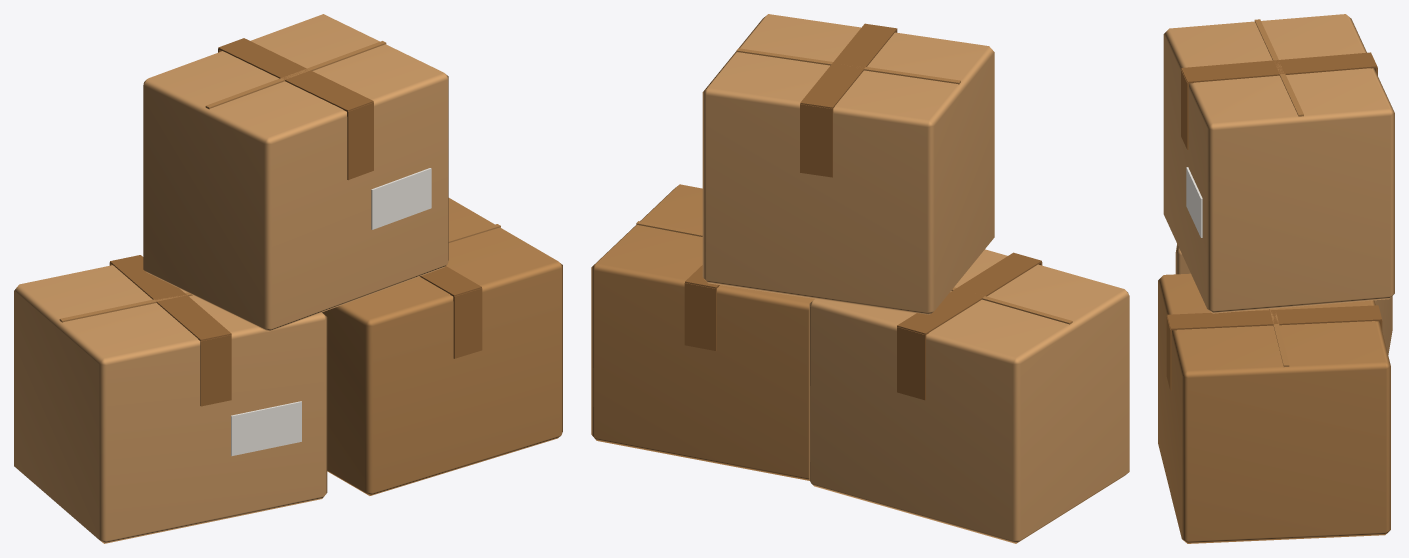
File: sperre_kartons.glb
3 views of the same model, side by side, from view 1: azimuth 30°, elevation 25°; view 2: azimuth 150°, elevation 25°; view 3: azimuth 270°, elevation 25° (orthographic). The views are drawn at different scales.
Parts seen in each view (by area): view 1: sperre_kartons; view 2: sperre_kartons; view 3: sperre_kartons.
Boxes of the visible parts, x1,y1,x2,y2 form: sperre_kartons: (14, 14, 562, 543); sperre_kartons: (591, 14, 1129, 543); sperre_kartons: (1158, 14, 1394, 543).
Size of the model in its own units: 1.08 by 0.863 by 0.4954.
